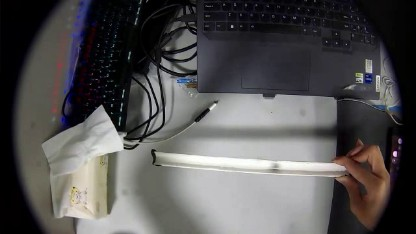gangzhu: (268, 162, 279, 172)
